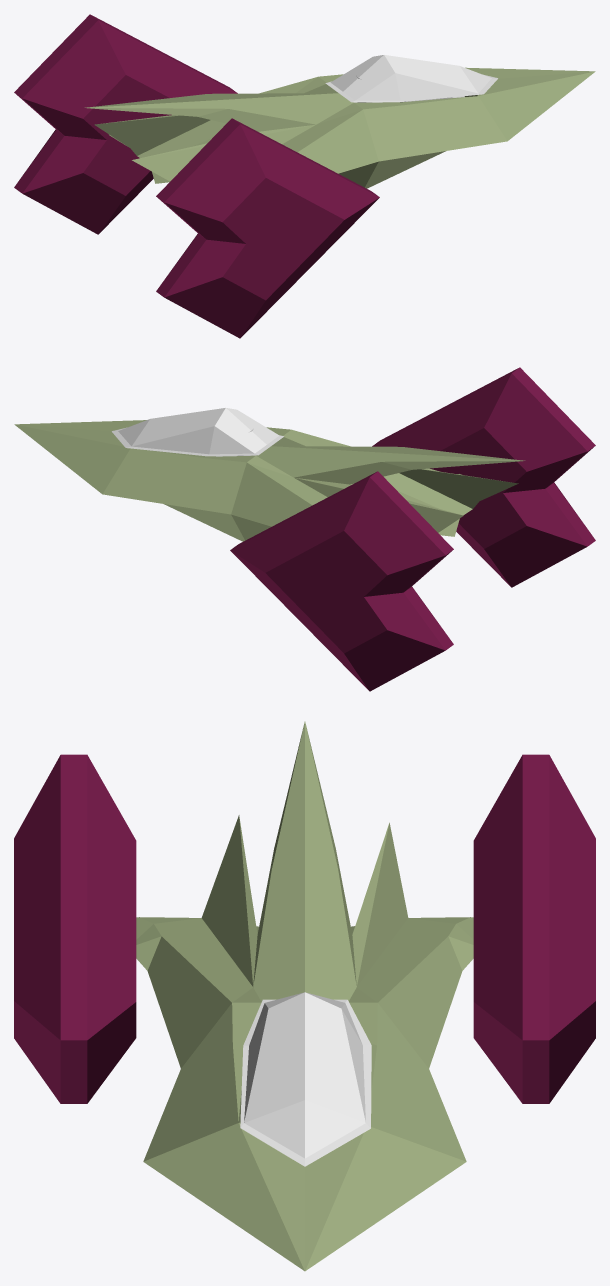
File: Nave jugador con aceleador cerrado.fbx
3 renders of one model, top to bottom at view 1: azimuth 30°, elevation 25°; view 2: azimuth 150°, elevation 25°; view 3: azimuth 270°, elevation 25°, orthographic. The views are drawn at different scales.
Visible parts, largest first — view 1: NaveJugador; view 2: NaveJugador; view 3: NaveJugador.
Boxes of the visible parts, x1=… form: NaveJugador: x1=14, y1=14, x2=595, y2=338; NaveJugador: x1=14, y1=367, x2=595, y2=691; NaveJugador: x1=14, y1=721, x2=595, y2=1271.
Bounding box in the file's own units: 1322 × 529 × 799.
